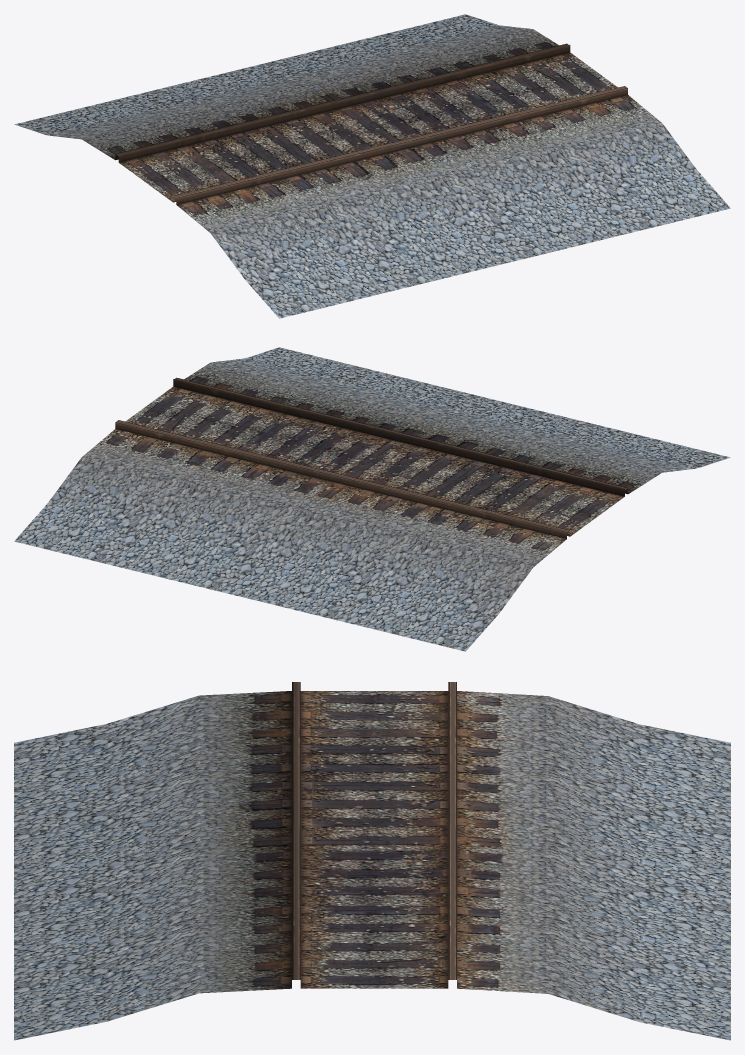
Rendered from railway_2.fbx.
The picture shows the model from 3 angles, top to bottom: view 1: azimuth 30°, elevation 25°; view 2: azimuth 150°, elevation 25°; view 3: azimuth 270°, elevation 25°; orthographic projection. The views are drawn at different scales.
Visible parts, largest first — view 1: Plane.002; view 2: Plane.002; view 3: Plane.002.
Boxes of the visible parts, left/top/right/bottom form: Plane.002: left=14, top=14, right=730, bottom=318; Plane.002: left=14, top=347, right=730, bottom=651; Plane.002: left=14, top=682, right=730, bottom=1040.
Bounding box in the file's own units: 375 × 36.72 × 382.
1 material, 1 textured.
